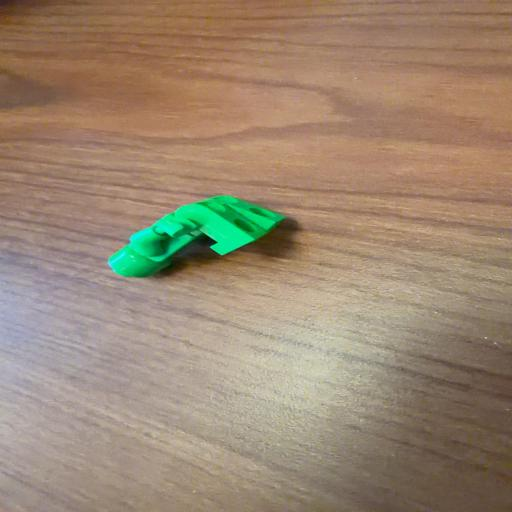UnoQ-minifig-detector: (109, 196, 285, 277)
